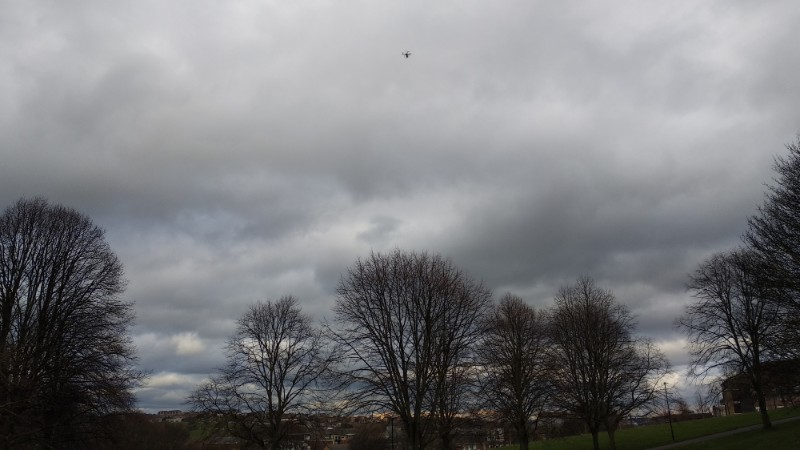drone: (401, 50, 412, 59)
